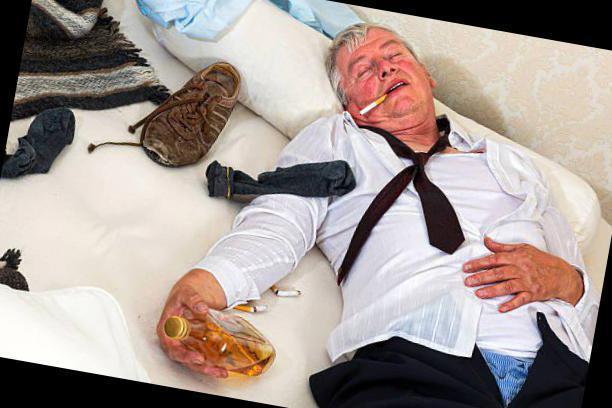Drunk: (332, 37, 428, 116)
